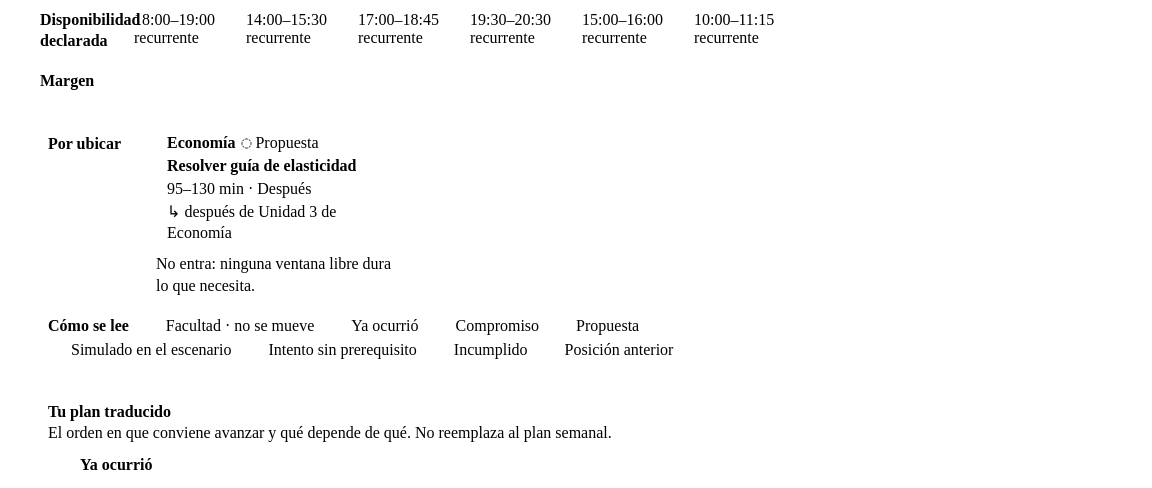
Test case: Inspector universal › el trabajo por ubicar dice por qué no entra
(page scrolled)
Click the button "Resolver guía de elasticidad": point(276, 188) [156, 127, 396, 249]
(page scrolled)
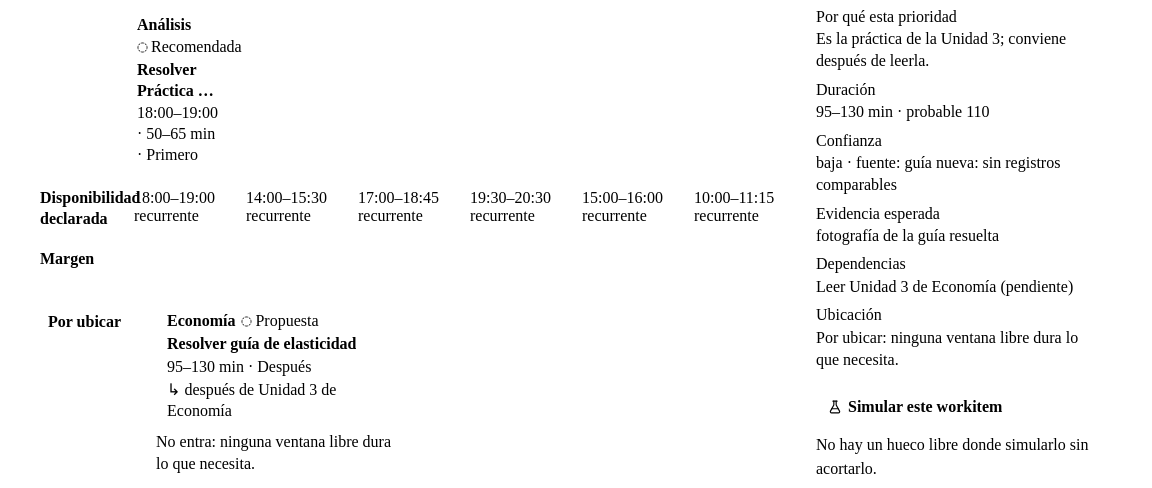
Now the element that starts with "Resolver guía de elasticidad" shows "Por ubicar: ninguna ventana libre dura lo que necesita.", box [816, 328, 1078, 368]
